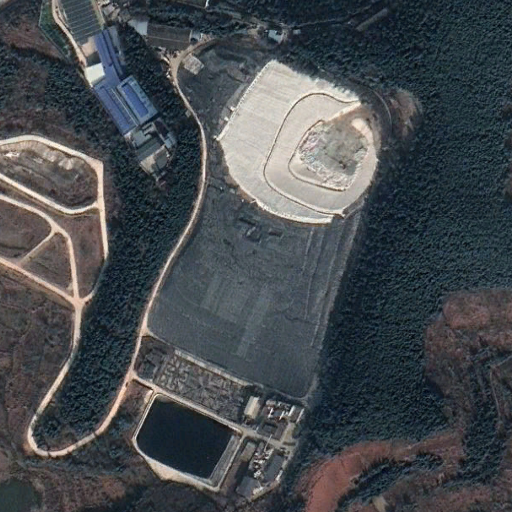lf: (141, 60, 379, 397)
